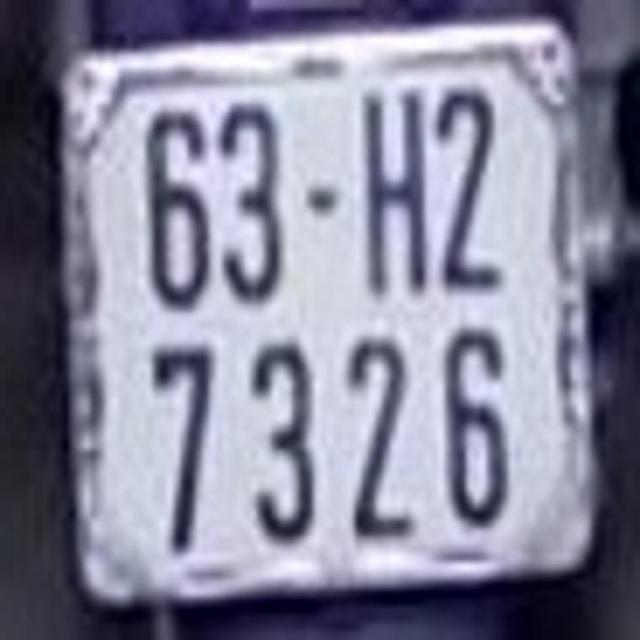2: (341, 337, 419, 537), (437, 87, 502, 289)
3: (246, 344, 322, 545), (220, 104, 280, 295)
6: (437, 327, 510, 532), (147, 107, 213, 304)
7: (148, 347, 216, 551)
H: (360, 91, 430, 288)
